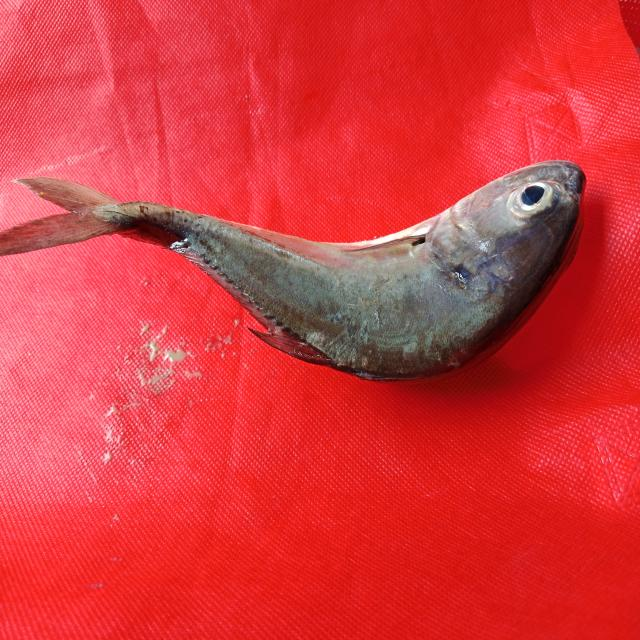ikan: (3, 135, 613, 401)
